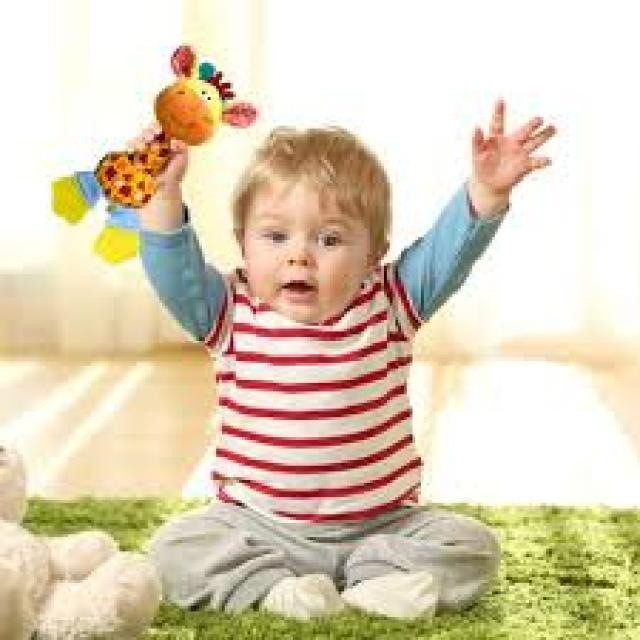soft-toy: (52, 45, 258, 262)
